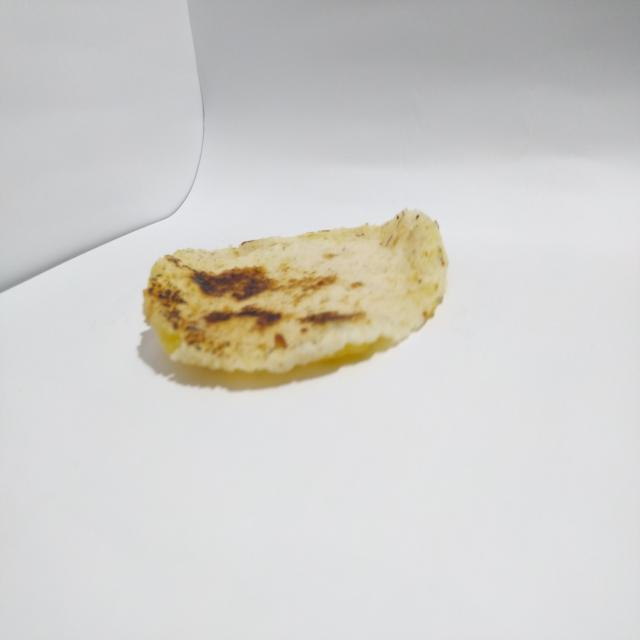Food: (143, 200, 450, 380)
